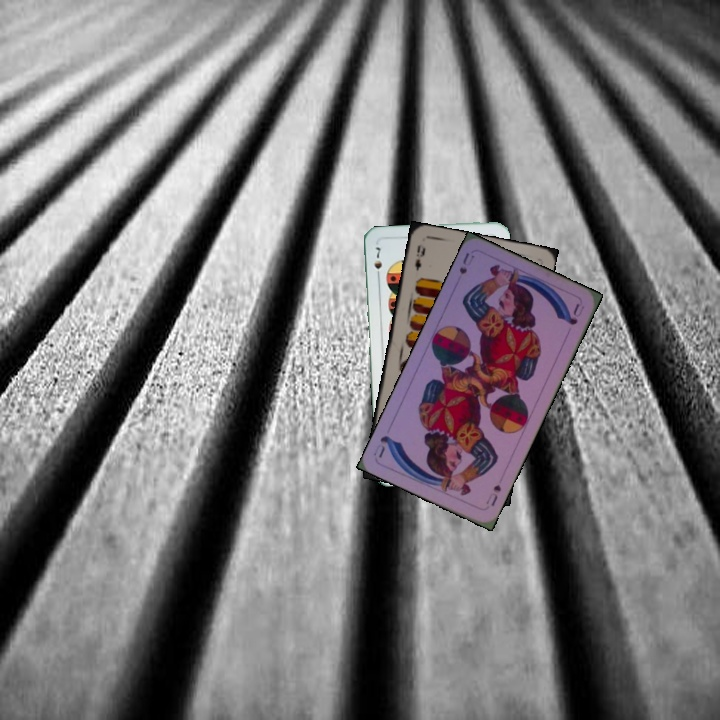E9: (411, 241, 428, 273)
S7: (370, 243, 384, 282)
SU: (455, 248, 477, 277), (482, 480, 504, 509)
